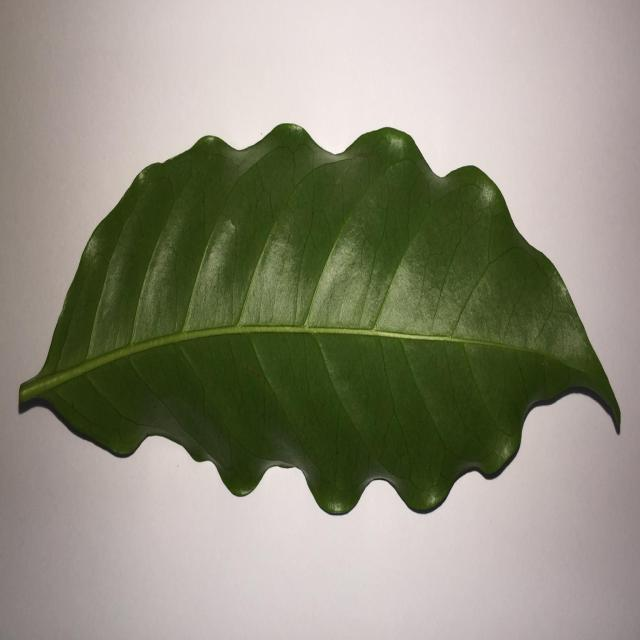Sanas: (17, 125, 622, 519)
